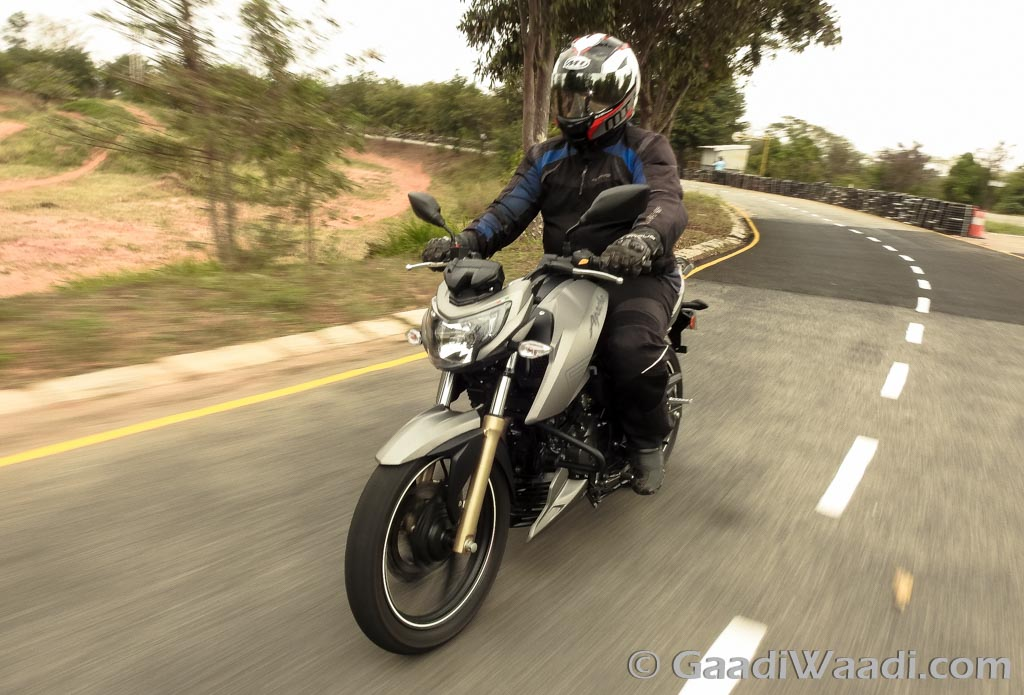helmet: (548, 31, 642, 143)
